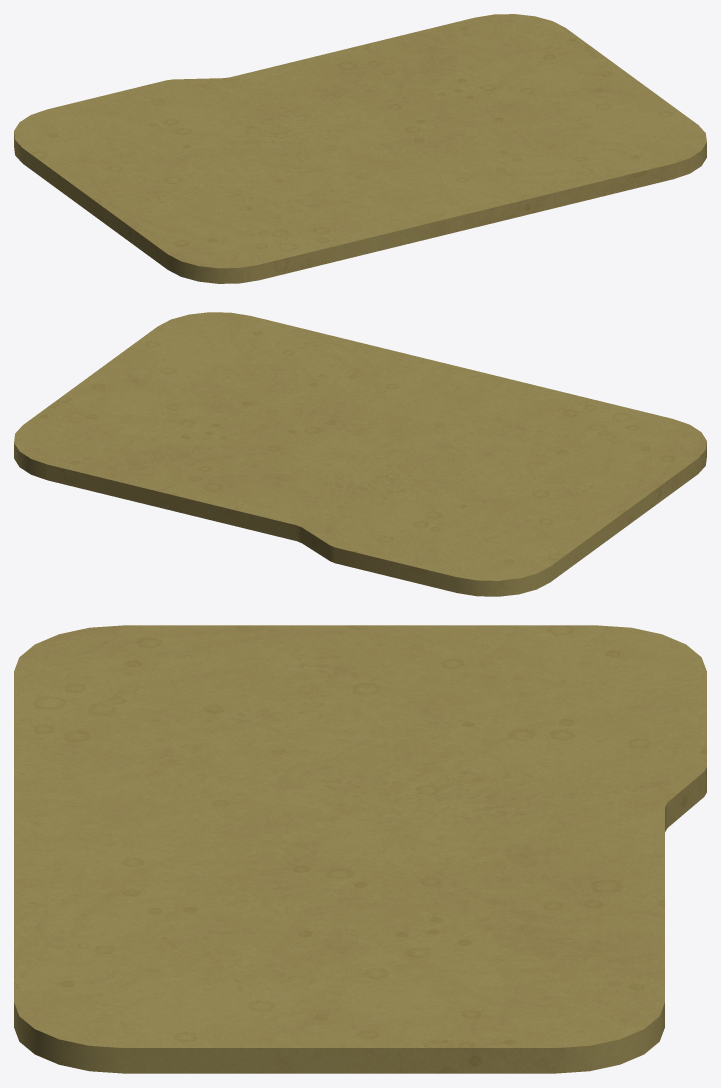
File: Folder.fbx
3 renders of one model, top to bottom at view 1: azimuth 30°, elevation 25°; view 2: azimuth 150°, elevation 25°; view 3: azimuth 270°, elevation 25°, orthographic. The views are drawn at different scales.
Parts seen in each view (by area): view 1: Folder; view 2: Folder; view 3: Folder.
Part boxes in pixels (left/top/right/bottom): Folder: left=14, top=14, right=706, bottom=283; Folder: left=14, top=312, right=706, bottom=596; Folder: left=14, top=625, right=706, bottom=1073.
Bounding box in the file's own units: 173 × 4.84 × 120.
